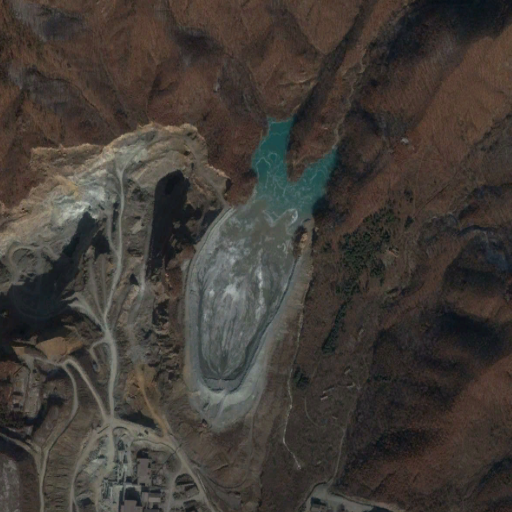tp: (188, 112, 337, 411)
